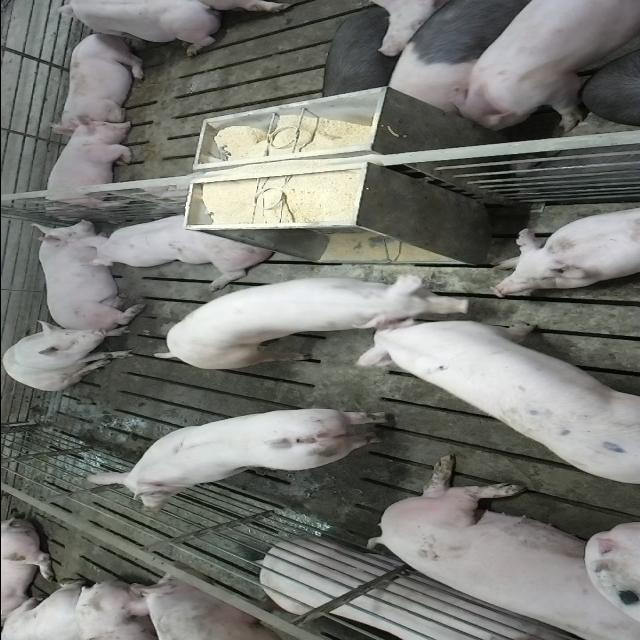Lateral_lying: (368, 453, 640, 637), (257, 537, 578, 640)
Sitting: (3, 322, 136, 391)
Standing: (354, 314, 635, 486), (84, 408, 398, 514), (152, 272, 446, 372), (446, 2, 640, 134), (380, 2, 542, 118), (122, 564, 366, 640), (316, 6, 400, 109)
Sternal_lying: (489, 203, 640, 294), (83, 210, 274, 280), (28, 218, 134, 328), (38, 116, 138, 215), (52, 31, 150, 130), (46, 2, 224, 56)
